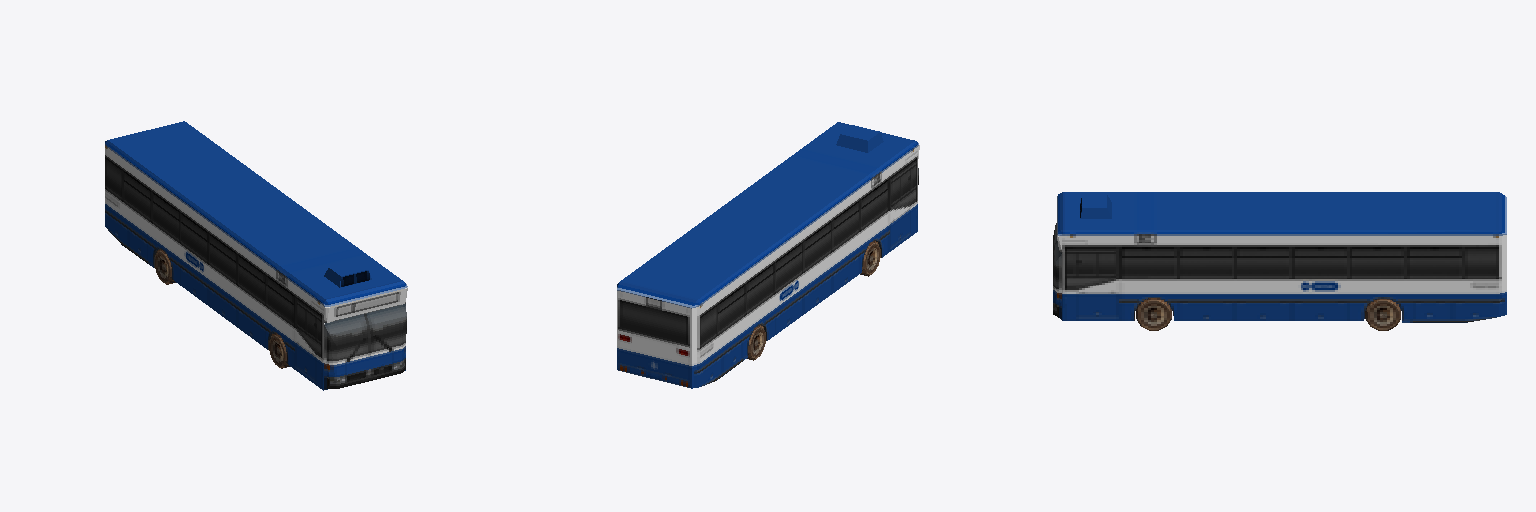
3 views of the same model, side by side, from view 1: azimuth 30°, elevation 25°; view 2: azimuth 150°, elevation 25°; view 3: azimuth 270°, elevation 25° (orthographic).
Visible parts, largest first — view 1: polymsh6; view 2: polymsh6; view 3: polymsh6.
Part boxes in pixels (left/top/right/bottom): polymsh6: left=105, top=121, right=407, bottom=390; polymsh6: left=617, top=122, right=919, bottom=388; polymsh6: left=1053, top=192, right=1506, bottom=330.
Size of the model in its own units: 191 by 241 by 896.
1 materials, 1 textured.